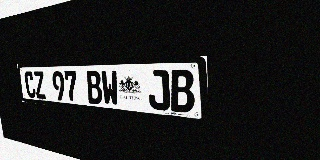7: (63, 71, 79, 102)
9: (51, 71, 66, 101)
B: (169, 70, 195, 113), (85, 71, 103, 105)
C: (24, 71, 36, 98)
J: (147, 70, 170, 111)
W: (100, 70, 119, 106)
Z: (33, 71, 47, 99)
